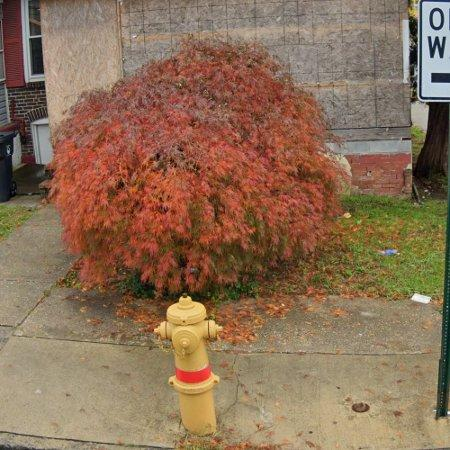a fire hydrant: (155, 296, 222, 436)
